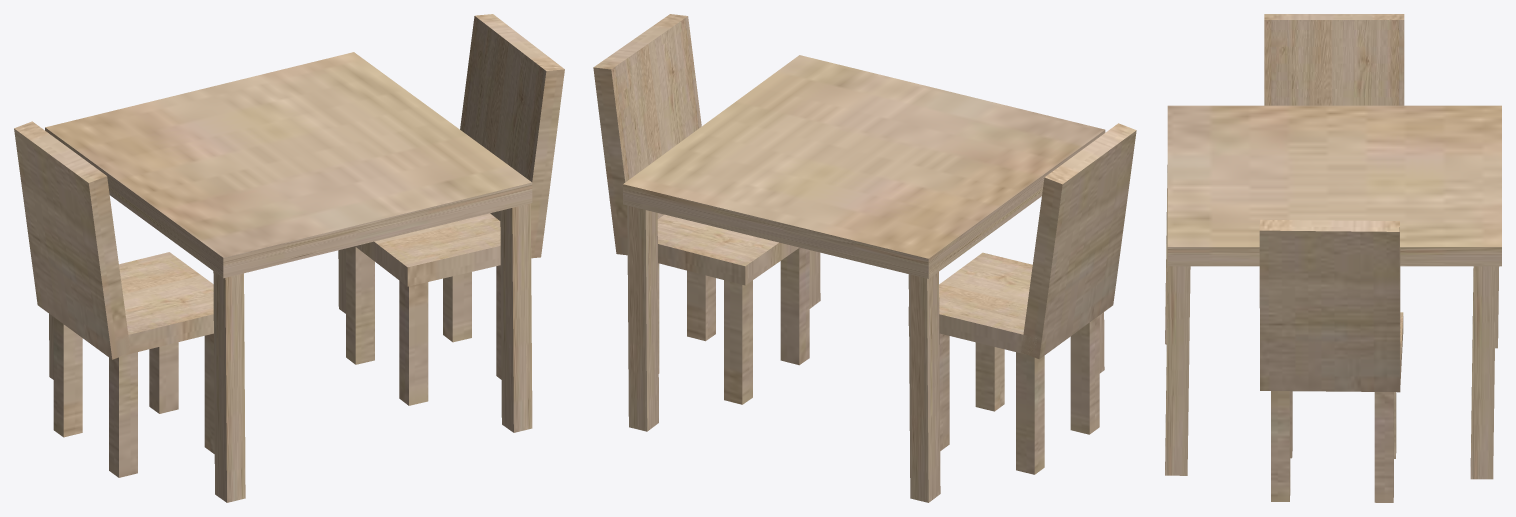
The model's file is mesa_cadeiras.gltf.
3 renders of one model, left to right at view 1: azimuth 30°, elevation 25°; view 2: azimuth 150°, elevation 25°; view 3: azimuth 270°, elevation 25°, orthographic. The views are drawn at different scales.
Visible parts, largest first — view 1: mesa, cadeira, cadeira.001, Cube.003, Cube.005; view 2: mesa, cadeira, cadeira.001, Cube.002, Cube.001, Cube.005; view 3: mesa, cadeira.001, cadeira, Cube.001, Cube.005.
Boxes of the visible parts, x1,y1,x2,y2 form: mesa: (45,52,532,278); cadeira: (14,121,214,477); cadeira.001: (346,14,564,405); Cube.003: (213,271,245,502); Cube.005: (500,203,532,432); mesa: (623,55,1105,278); cadeira: (908,123,1136,474); cadeira.001: (593,14,809,404); Cube.002: (908,272,940,502); Cube.001: (627,205,658,431); Cube.005: (809,250,820,308); mesa: (1167,105,1501,266); cadeira.001: (1259,219,1403,502); cadeira: (1264,14,1404,105); Cube.001: (1470,266,1495,479); Cube.005: (1165,266,1190,475).
Size of the model in its own units: 1.55 by 0.9575 by 1.01.
Materials: 1 (1 with a texture image).
